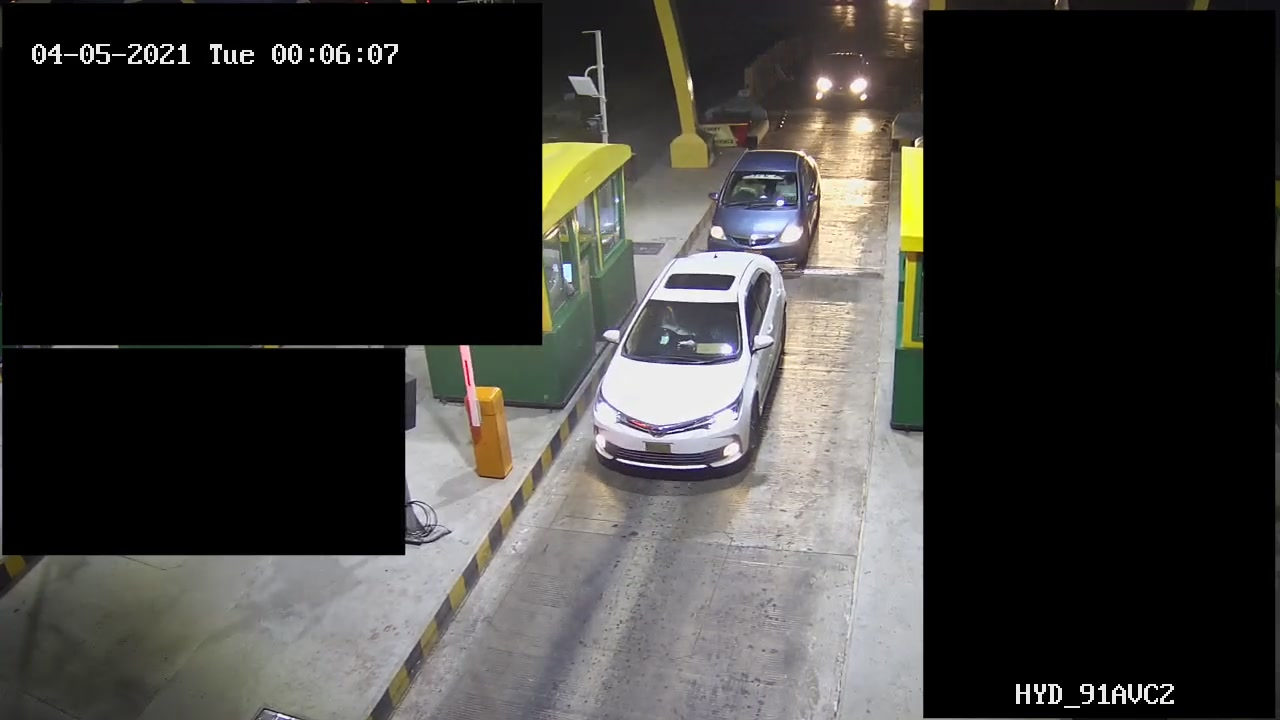F1: (582, 247, 813, 473), (704, 145, 830, 268)
